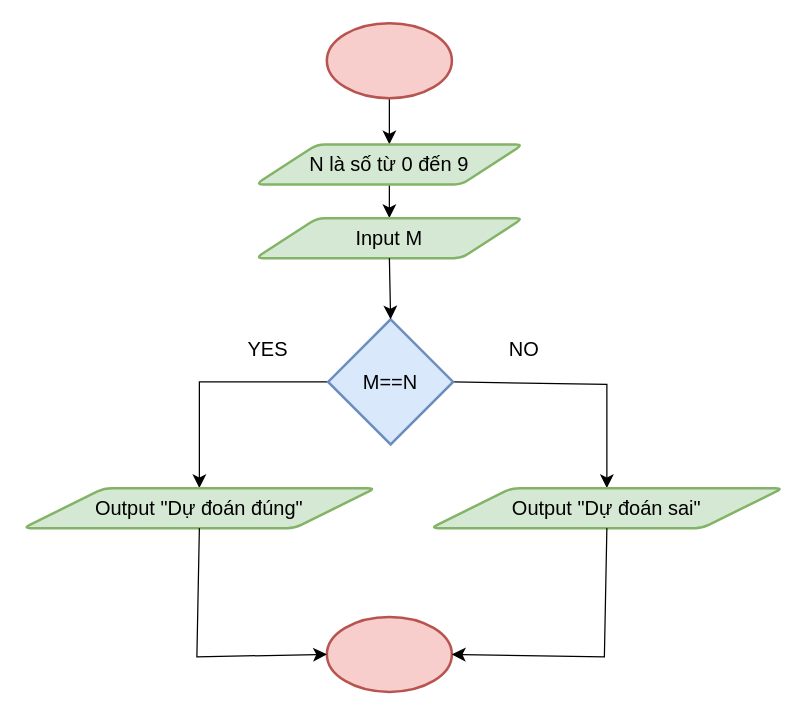
Some shapes in this 805 by 714 pixel diagram are drawn without their labels. Each missing label, with the centre of its shape:
Begin: point 388,60
End: point 388,653
